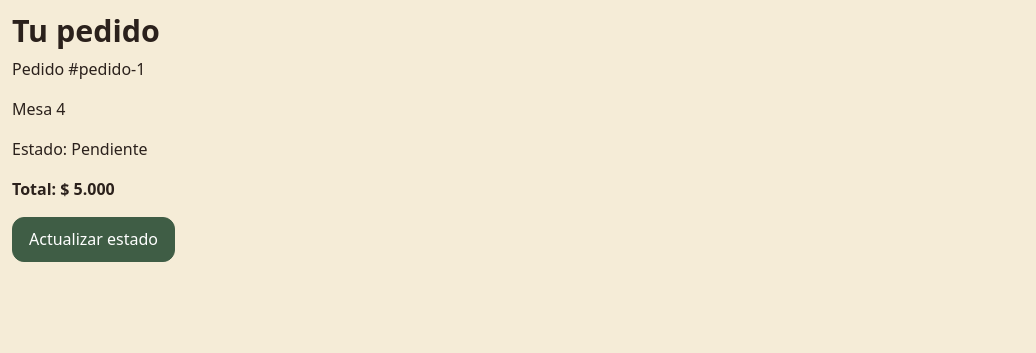
SeguimientoPedido › muestra el error si falla la actualización y conserva el estado anterior
Click the button "Actualizar estado" at (94,239), box [12, 216, 175, 262]
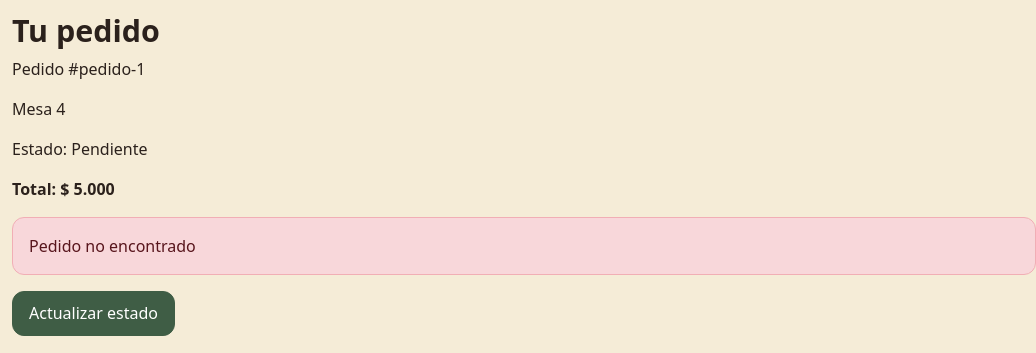
Expected: the text "Estado: Pendiente" is shown, [12, 138, 148, 160]
Expected: the message reads "Pedido no encontrado", [29, 234, 196, 256]
